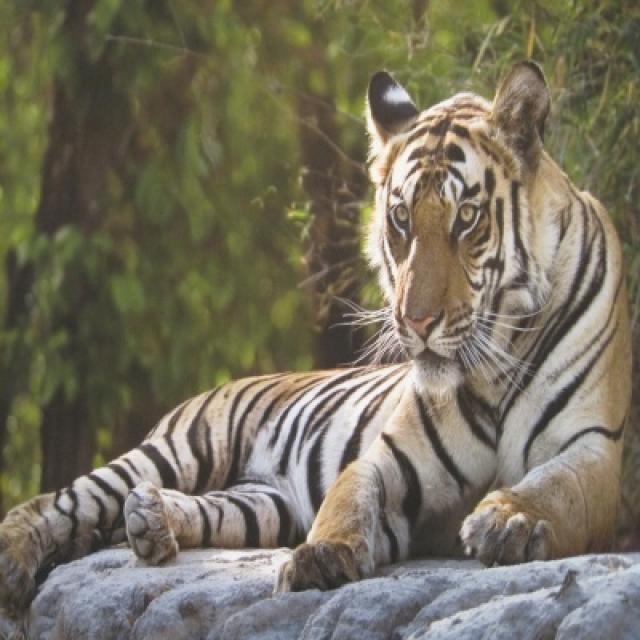Tiger: (9, 64, 635, 588)
